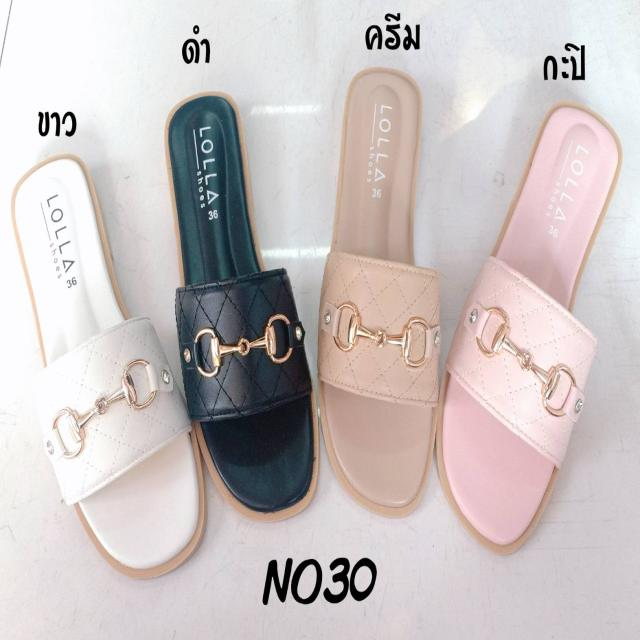black: (164, 94, 315, 508)
cream: (318, 70, 442, 508)
kapi: (435, 94, 624, 555)
white: (18, 150, 196, 572)
